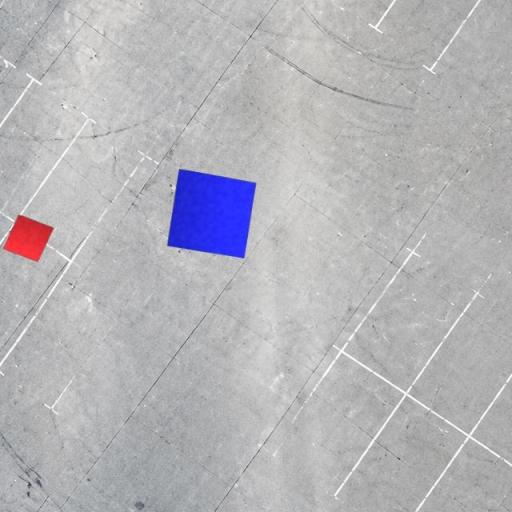BLUE_SQUARE: (166, 168, 257, 258)
RED_SQUARE: (2, 214, 54, 262)
